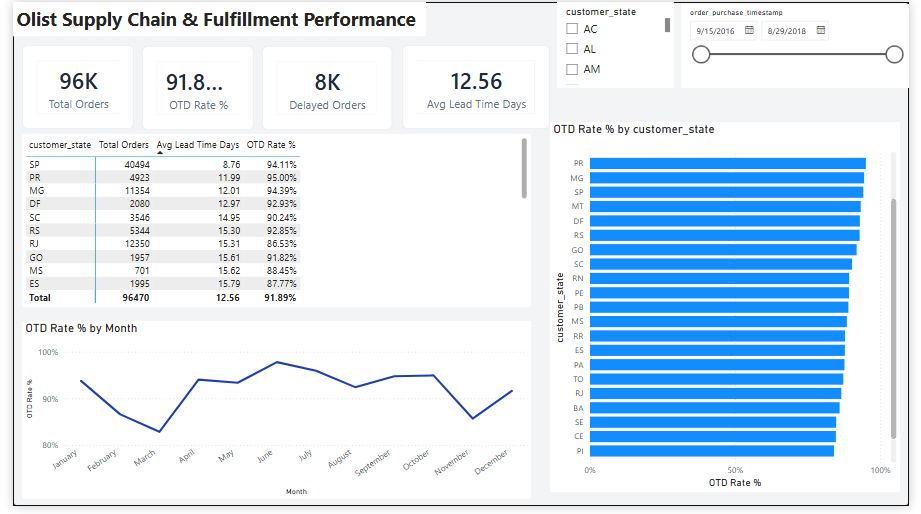

What the dashboard file says about the page in this screenshot:
{"tool":"powerbi","page":{"name":"Page 1","canvas":[1280,720],"ordinal":0},"visuals":[{"type":"cardVisual","fields":{"Data":["vw_supply_chain_performance.Total Orders"]},"box":[12.9,61.4,160,120],"z":0},{"type":"clusteredBarChart","fields":{"Y":["vw_supply_chain_performance.OTD Rate %"],"Category":["vw_supply_chain_performance.customer_state"]},"box":[767.1,171.4,500,528.6],"z":4},{"type":"lineChart","fields":{"Y":["vw_supply_chain_performance.OTD Rate %"],"Category":["vw_supply_chain_performance.order_purchase_timestamp.Variation.Date Hierarchy.Year","vw_supply_chain_performance.order_purchase_timestamp.Variation.Date Hierarchy.Month"]},"box":[12.9,455.7,727.1,254.3],"z":5},{"type":"pivotTable","fields":{"Rows":["vw_supply_chain_performance.customer_state"],"Values":["vw_supply_chain_performance.Total Orders","vw_supply_chain_performance.Avg Lead Time Days","vw_supply_chain_performance.OTD Rate %"]},"box":[12.9,188.6,727.1,247.1],"z":6},{"type":"slicer","fields":{"Values":["vw_supply_chain_performance.customer_state"]},"box":[767.1,0,167.1,122.9],"z":7},{"type":"slicer","fields":{"Values":["vw_supply_chain_performance.order_purchase_timestamp"]},"box":[941.4,2.9,325.7,120],"z":8},{"type":"textbox","box":[0,0,590,48.6],"z":9},{"type":"cardVisual","fields":{"Data":["vw_supply_chain_performance.Avg Lead Time Days"]},"box":[580,61.4,160,120],"z":10},{"type":"cardVisual","fields":{"Data":["vw_supply_chain_performance.OTD Rate %"]},"box":[202.9,62.9,160,120],"z":11},{"type":"cardVisual","fields":{"Data":["vw_supply_chain_performance.Delayed Orders"]},"box":[394.3,62.9,160,120],"z":12}]}

Visuals, with their boxes in screenshot pixels (x1, y1, x2, y2), scaled from the page's 1280x720 canvas onto the 921x514 screenshot:
cardVisual - vw_supply_chain_performance.Total Orders: Rect(9, 44, 124, 129)
clusteredBarChart - vw_supply_chain_performance.OTD Rate % x vw_supply_chain_performance.customer_state: Rect(552, 122, 912, 500)
lineChart - vw_supply_chain_performance.OTD Rate % x vw_supply_chain_performance.order_purchase_timestamp.Variation.Date Hierarchy.Year: Rect(9, 325, 532, 507)
pivotTable - vw_supply_chain_performance.customer_state x vw_supply_chain_performance.Total Orders: Rect(9, 135, 532, 311)
slicer - vw_supply_chain_performance.customer_state: Rect(552, 0, 672, 88)
slicer - vw_supply_chain_performance.order_purchase_timestamp: Rect(677, 2, 912, 88)
textbox: Rect(0, 0, 425, 35)
cardVisual - vw_supply_chain_performance.Avg Lead Time Days: Rect(417, 44, 532, 129)
cardVisual - vw_supply_chain_performance.OTD Rate %: Rect(146, 45, 261, 131)
cardVisual - vw_supply_chain_performance.Delayed Orders: Rect(284, 45, 399, 131)
